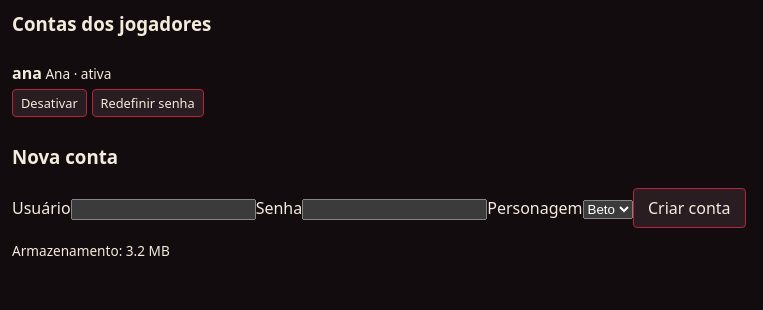
AccountsPanel: robustez › falha ao atualizar a lista após ação bem-sucedida não vira alerta de erro
Click the button with aria-label "Desativar ana": (49, 103) [12, 89, 87, 117]
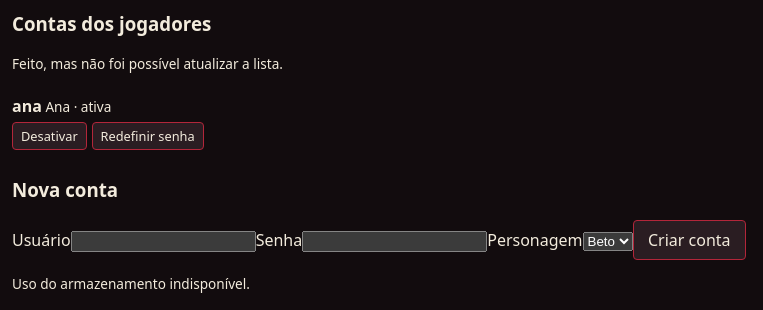
expect the message reads "Feito, mas não foi possível atualizar a lista.": met, box [12, 54, 283, 73]
